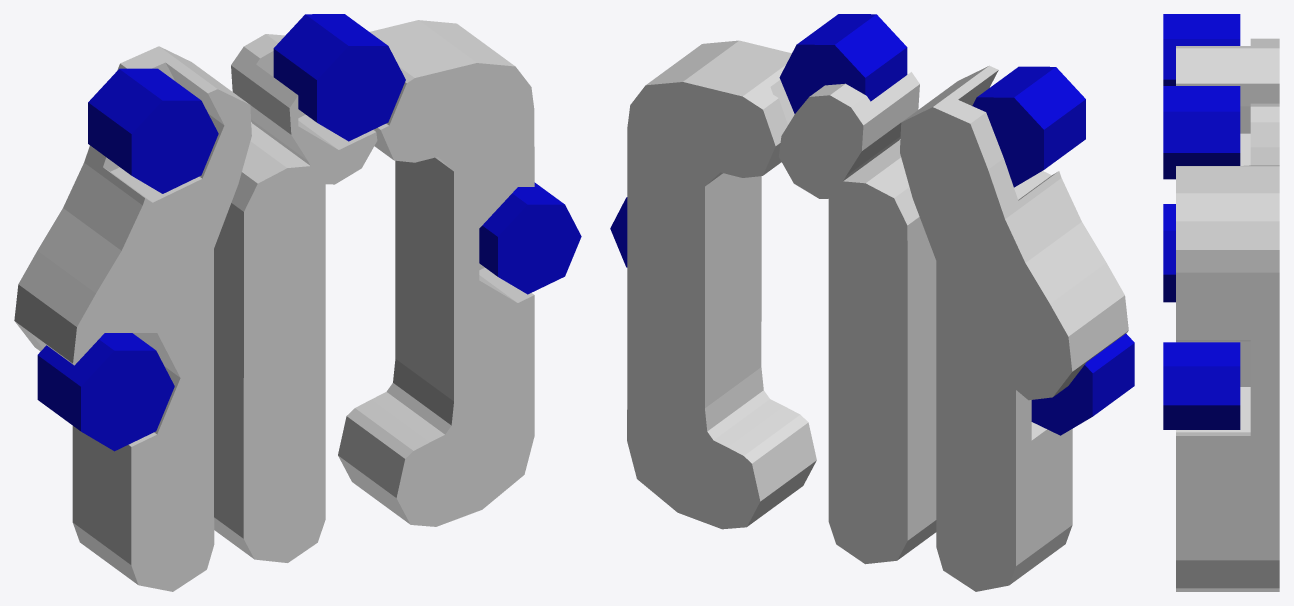
Rendered from Ch_Lite_China_们_01.fbx.
The picture shows the model from 3 angles, left to right: view 1: azimuth 30°, elevation 25°; view 2: azimuth 150°, elevation 25°; view 3: azimuth 270°, elevation 25°; orthographic projection. The views are drawn at different scales.
Parts seen in each view (by area): view 1: sphere1; view 2: sphere1; view 3: sphere1.
Boxes of the visible parts, left/top/right/bottom form: sphere1: left=14, top=14, right=581, bottom=591; sphere1: left=610, top=14, right=1134, bottom=591; sphere1: left=1163, top=14, right=1279, bottom=591.
Bounding box in the file's own units: 0.987 × 0.9591 × 0.2242.
